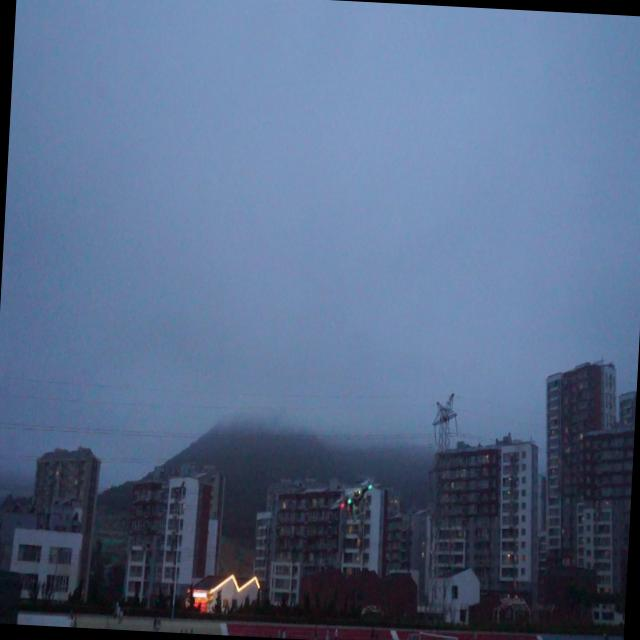drone: (326, 469, 384, 522)
